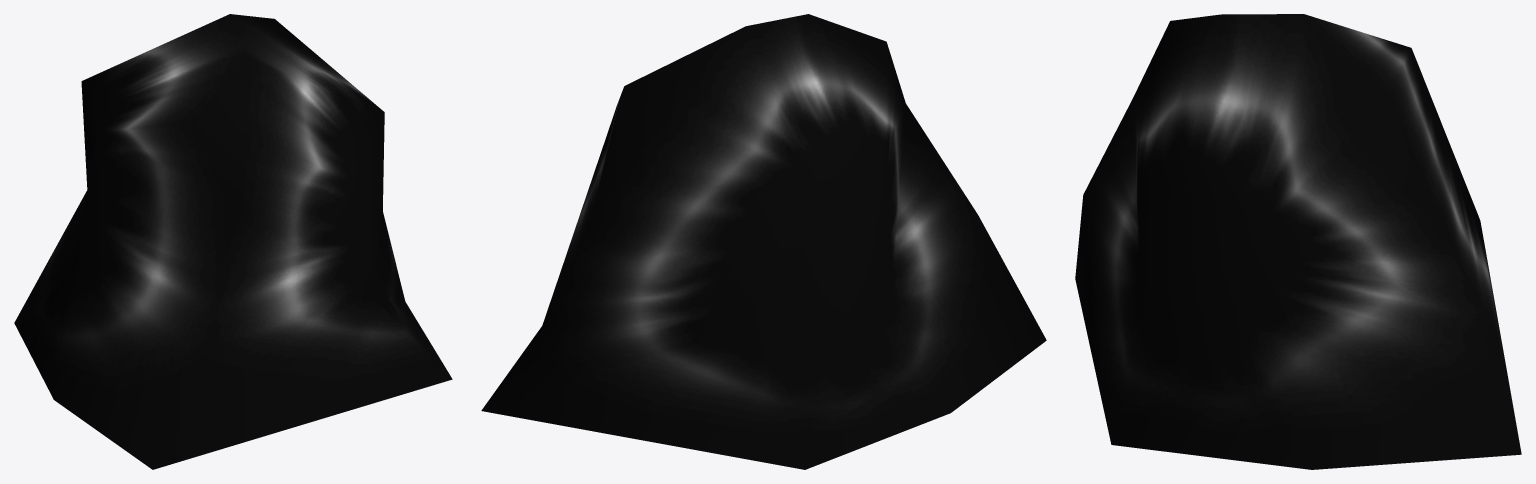
File: 0239_buff_ice_z01.glb
3 renders of one model, left to right at view 1: azimuth 30°, elevation 25°; view 2: azimuth 150°, elevation 25°; view 3: azimuth 270°, elevation 25°, orthographic. The views are drawn at different scales.
Size of the model in its own units: 2.2 by 1.92 by 2.15.
Materials: 1 (1 with a texture image).
